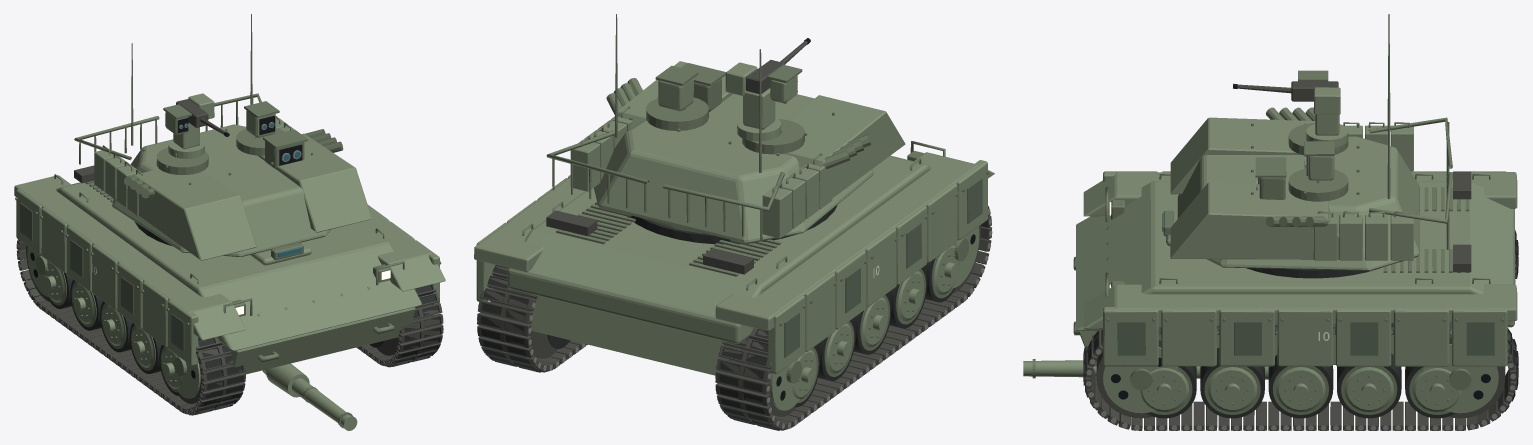
Rendered from japan.glb.
The picture shows the model from 3 angles, left to right: view 1: azimuth 30°, elevation 25°; view 2: azimuth 150°, elevation 25°; view 3: azimuth 270°, elevation 25°; orthographic projection. The views are drawn at different scales.
Parts seen in each view (by area): view 1: body, turret, tracks, cannon; view 2: body, turret, tracks; view 3: body, turret, tracks, cannon.
Part boxes in pixels (bbox=[...]): body: bbox=[14, 165, 445, 374]; turret: bbox=[74, 14, 371, 260]; tracks: bbox=[16, 238, 443, 415]; cannon: bbox=[262, 363, 357, 430]; body: bbox=[474, 141, 994, 375]; turret: bbox=[546, 14, 905, 244]; tracks: bbox=[477, 206, 992, 430]; body: bbox=[1073, 171, 1517, 366]; turret: bbox=[1170, 14, 1452, 278]; tracks: bbox=[1083, 230, 1518, 430]; cannon: bbox=[1023, 359, 1268, 379].
Bounding box in the file's own units: 3.82 × 4.26 × 5.62.
